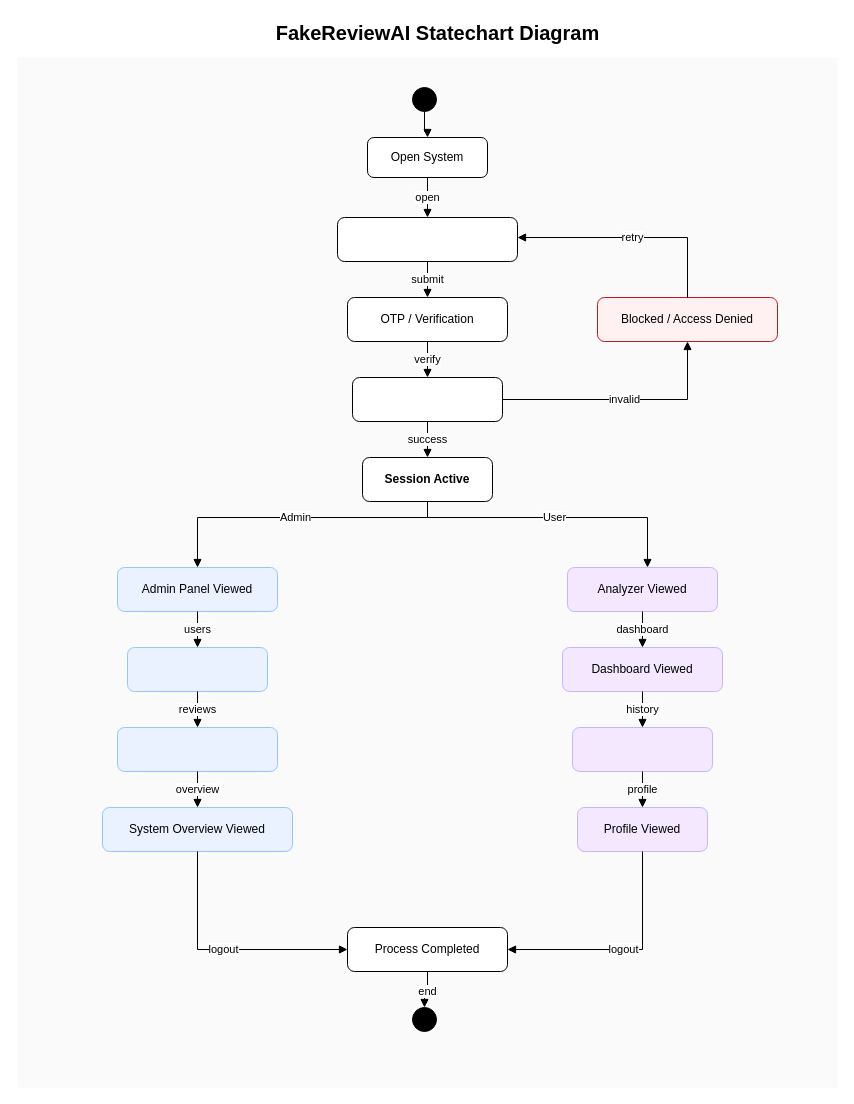
Some shapes in this 854 by 1104 pixel diagram are drawn without their labels. The shapes that lost their labels are listed below. From the top down, each one's centre as x and y in pixels, then its label:
pixel 427 239: Login / Signup Form
pixel 427 399: Authenticating User
pixel 197 669: Users Managed
pixel 197 749: Reviews Moderated
pixel 642 749: History Viewed
